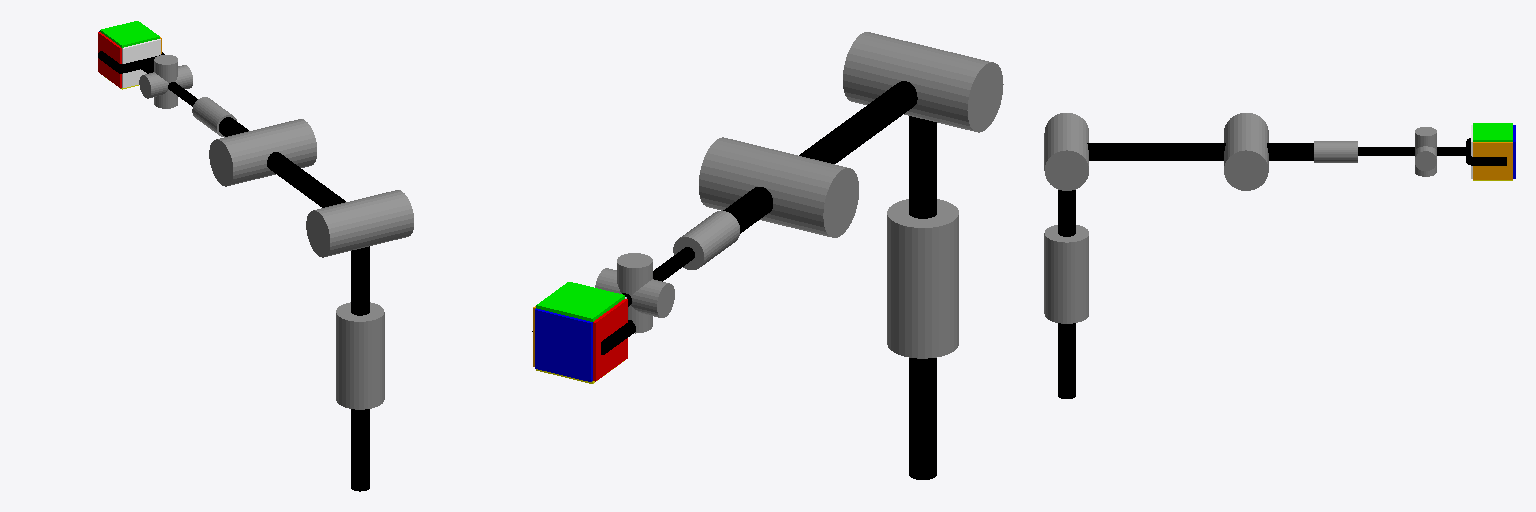
The robot description file, URDF, robot "SixRevolute":
<?xml version="1.0"?>

<robot name="SixRevolute">
  
  <!-- *************************************************** -->
  <!-- ******************** Kinematics ******************* -->
  <!-- *************************************************** -->

  <link name="world"/>

  <joint name="theta1" type="continuous">
    <parent link="world"/>
    <child  link="link1"/>
    <origin xyz="0 0 0.6" rpy="0 0 0"/>
    <axis   xyz="0 0 1"/>
    <dynamics damping="0.5"/>
  </joint>

  <link name="link1"/>

  <joint name="theta2" type="continuous">
    <parent link="link1"/>
    <child  link="link2"/>
    <origin xyz="0 0 0" rpy="0 0 0"/>
    <axis   xyz="1 0 0"/>
    <dynamics damping="0.5"/>
  </joint>

  <link name="link2"/>

  <joint name="theta3" type="continuous">
    <parent link="link2"/>
    <child  link="link3"/>
    <origin xyz="0 0.4 0" rpy="0 0 0"/>
    <axis   xyz="1 0 0 "/>
    <dynamics damping="0.1"/>
  </joint>

  <link name="link3"/>

  <joint name="theta4" type="continuous">
    <parent link="link3"/>
    <child  link="link4"/>
    <origin xyz="0 0.4 0" rpy="0 0 0"/>
    <axis   xyz="0 1 0"/>
    <dynamics damping="0.02"/>
  </joint>

  <link name="link4"/>

  <joint name="theta5" type="continuous">
    <parent link="link4"/>
    <child  link="link5"/>
    <origin xyz="0 0 0" rpy="0 0 0"/>
    <axis   xyz="0 0 1"/>
    <dynamics damping="0.02"/>
  </joint>

  <link name="link5"/>

  <joint name="theta6" type="continuous">
    <parent link="link5"/>
    <child  link="link6"/>
    <origin xyz="0 0 0" rpy="0 0 0"/>
    <axis   xyz="1 0 0"/>
    <dynamics damping="0.02"/>
  </joint>

  <link name="link6"/>

  <joint name="final" type="fixed">
    <parent link="link6"/>
    <child  link="tip"/>
    <origin xyz="0 0.15 0" rpy="1.5708 0 3.1416"/>
  </joint>

  <link name="tip"/>


  <!-- *************************************************** -->
  <!-- ******************* RVIZ Colors ******************* -->
  <!-- *************************************************** -->

  <material name="white">    <color rgba="1.00 1.00 1.00 1"/>  </material>
  <material name="gray">     <color rgba="0.60 0.60 0.60 1"/>  </material>
  <material name="table">    <color rgba="0.85 0.77 0.77 1"/>  </material>
  <material name="black">    <color rgba="0.00 0.00 0.00 1"/>  </material>

  <material name="red">      <color rgba="1.00 0.00 0.00 1"/>  </material>
  <material name="green">    <color rgba="0.00 1.00 0.00 1"/>  </material>
  <material name="blue">     <color rgba="0.00 0.00 1.00 1"/>  </material>

  <material name="cyan">     <color rgba="0.00 1.00 1.00 1"/>  </material>
  <material name="magenta">  <color rgba="1.00 0.00 1.00 1"/>  </material>
  <material name="yellow">   <color rgba="1.00 1.00 0.00 1"/>  </material>

  <material name="orange">   <color rgba="1.00 0.65 0.00 1"/>  </material>


  <!-- *************************************************** -->
  <!-- ****** Building Blocks (Visual AND Inertial) ****** -->
  <!-- *************************************************** -->

  <!-- *** World-Fixed: Mount 1, Motor 1 *** -->

  <joint name="attach-mount1" type="fixed">
    <parent link="world"/>
    <child  link="mount1"/>
  </joint>
  <link name="mount1">
    <visual>
      <origin xyz="0 0 0.1" rpy="0 0 0"/>
      <geometry>
	<cylinder length="0.2" radius="0.02"/>
      </geometry>
      <material name="black"/>
    </visual>
    <inertial>
      <origin xyz="0 0 0.1" rpy="0 0 0"/>
      <mass value="0.2"/>
      <inertia
        ixx="0.000687" ixy="0.0" ixz="0.0"
        iyy="0.000687" iyz="0.0"
        izz="0.000040"/>
    </inertial>
  </link>

  <joint name="attach-motor1" type="fixed">
    <parent link="world"/>
    <child  link="motor1"/>
  </joint>
  <link name="motor1">
    <visual>
      <origin xyz="0 0 0.3" rpy="0 0 0"/>
      <geometry>
	<cylinder length="0.2" radius="0.05"/>
      </geometry>
      <material name="gray"/>
    </visual>
    <inertial>
      <origin xyz="0 0 0.3" rpy="0 0 0"/>
      <mass value="2.0"/>
      <inertia
        ixx="0.007917" ixy="0.0" ixz="0.0"
        iyy="0.007917" iyz="0.0"
        izz="0.002500"/>
    </inertial>
  </link>

  <!-- *** Motor 1 Output: Mount 2, Motor 2 *** -->

  <joint name="attach-mount2" type="fixed">
    <parent link="link1"/>
    <child  link="mount2"/>
  </joint>
  <link name="mount2">
    <visual>
      <origin xyz="0 0 -0.1" rpy="0 0 0"/>
      <geometry>
	<cylinder length="0.2" radius="0.02"/>
      </geometry>
      <material name="black"/>
    </visual>
    <inertial>
      <origin xyz="0 0 -0.1" rpy="0 0 0"/>
      <mass value="0.2"/>
      <inertia
        ixx="0.000687" ixy="0.0" ixz="0.0"
        iyy="0.000687" iyz="0.0"
        izz="0.000040"/>
    </inertial>
  </link>

  <joint name="attach-motor2" type="fixed">
    <parent link="link1"/>
    <child  link="motor2"/>
  </joint>
  <link name="motor2">
    <visual>
      <origin xyz="0 0 0" rpy="0 1.5708 0"/>
      <geometry>
	<cylinder length="0.2" radius="0.05"/>
      </geometry>
      <material name="gray"/>
    </visual>
    <inertial>
      <origin xyz="0 0 0" rpy="0 1.5708 0"/>
      <mass value="2.0"/>
      <inertia
        ixx="0.007917" ixy="0.0" ixz="0.0"
        iyy="0.007917" iyz="0.0"
        izz="0.002500"/>
    </inertial>
  </link>

  <!-- *** Motor 2 Output: Mount 3, Motor 3 *** -->

  <joint name="attach-mount3" type="fixed">
    <parent link="link2"/>
    <child  link="mount3"/>
  </joint>
  <link name="mount3">
    <visual>
      <origin xyz="0 0.2 0" rpy="1.5708 0 0"/>
      <geometry>
	<cylinder length="0.4" radius="0.02"/>
      </geometry>
      <material name="black"/>
    </visual>
    <inertial>
      <origin xyz="0 0.2 0" rpy="1.5708 0 0"/>
      <mass value="0.4"/>
      <inertia
        ixx="0.005373" ixy="0.0" ixz="0.0"
        iyy="0.005373" iyz="0.0"
        izz="0.000080"/>
    </inertial>
  </link>

  <joint name="attach-motor3" type="fixed">
    <parent link="link2"/>
    <child  link="motor3"/>
  </joint>
  <link name="motor3">
    <visual>
      <origin xyz="0 0.4 0" rpy="0 1.5708 0"/>
      <geometry>
	<cylinder length="0.2" radius="0.05"/>
      </geometry>
      <material name="gray"/>
    </visual>
    <inertial>
      <origin xyz="0 0.4 0" rpy="0 1.5708 0"/>
      <mass value="2.0"/>
      <inertia
        ixx="0.007917" ixy="0.0" ixz="0.0"
        iyy="0.007917" iyz="0.0"
        izz="0.002500"/>
    </inertial>
  </link>

  <!-- *** Motor 3 Output: Mount 4, Motor 4 *** -->

  <joint name="attach-mount4" type="fixed">
    <parent link="link3"/>
    <child  link="mount4"/>
  </joint>
  <link name="mount4">
    <visual>
      <origin xyz="0 0.1 0" rpy="1.5708 0 0"/>
      <geometry>
	<cylinder length="0.2" radius="0.02"/>
      </geometry>
      <material name="black"/>
    </visual>
    <inertial>
      <origin xyz="0 0.1 0" rpy="1.5708 0 0"/>
      <mass value="0.2"/>
      <inertia
        ixx="0.000687" ixy="0.0" ixz="0.0"
        iyy="0.000687" iyz="0.0"
        izz="0.000040"/>
    </inertial>
  </link>

  <joint name="attach-motor4" type="fixed">
    <parent link="link3"/>
    <child  link="motor4"/>
  </joint>
  <link name="motor4">
    <visual>
      <origin xyz="0 0.2 0" rpy="1.5708 0 0"/>
      <geometry>
	<cylinder length="0.1" radius="0.025"/>
      </geometry>
      <material name="gray"/>
    </visual>
    <inertial>
      <origin xyz="0 0.2 0" rpy="1.5708 0 0"/>
      <mass value="1.0"/>
      <inertia
        ixx="0.000990" ixy="0.0" ixz="0.0"
        iyy="0.000990" iyz="0.0"
        izz="0.000313"/>
    </inertial>
  </link>

  <!-- *** Motor 4 Output: Mount 5, Motor 5 *** -->

  <joint name="attach-mount5" type="fixed">
    <parent link="link4"/>
    <child  link="mount5"/>
  </joint>
  <link name="mount5">
    <visual>
      <origin xyz="0 -0.1 0" rpy="1.5708 0 0"/>
      <geometry>
	<cylinder length="0.2" radius="0.01"/>
      </geometry>
      <material name="black"/>
    </visual>
    <inertial>
      <origin xyz="0 -0.1 0" rpy="1.5708 0 0"/>
      <mass value="0.1"/>
      <inertia
        ixx="0.000336" ixy="0.0" ixz="0.0"
        iyy="0.000336" iyz="0.0"
        izz="0.000005"/>
    </inertial>
  </link>

  <joint name="attach-motor5" type="fixed">
    <parent link="link4"/>
    <child  link="motor5"/>
  </joint>
  <link name="motor5">
    <visual>
      <origin xyz="0 0 0" rpy="0 0 0"/>
      <geometry>
	<cylinder length="0.1" radius="0.025"/>
      </geometry>
      <material name="gray"/>
    </visual>
    <inertial>
      <origin xyz="0 0 0" rpy="0 0 0"/>
      <mass value="1.0"/>
      <inertia
        ixx="0.000990" ixy="0.0" ixz="0.0"
        iyy="0.000990" iyz="0.0"
        izz="0.000313"/>
    </inertial>
  </link>

  <!-- *** Motor 5 Output: Motor 6 *** -->

  <joint name="attach-motor6" type="fixed">
    <parent link="link5"/>
    <child  link="motor6"/>
  </joint>
  <link name="motor6">
    <visual>
      <origin xyz="0 0 0" rpy="0 1.5708 0"/>
      <geometry>
	<cylinder length="0.1" radius="0.025"/>
      </geometry>
      <material name="gray"/>
    </visual>
    <inertial>
      <origin xyz="0 0 0" rpy="0 1.5708 0"/>
      <mass value="1.0"/>
      <inertia
        ixx="0.000990" ixy="0.0" ixz="0.0"
        iyy="0.000990" iyz="0.0"
        izz="0.000313"/>
    </inertial>
  </link>

  <!-- *** Motor 6 Output: Base, Palm, Fingers *** -->

  <joint name="attach-handbase" type="fixed">
    <parent link="link6"/>
    <child  link="handbase"/>
  </joint>
  <link name="handbase">
    <visual>
      <origin xyz="0 0.05 0" rpy="1.5708 0 0"/>
      <geometry>
	<cylinder length="0.1" radius="0.01"/>
      </geometry>
      <material name="black"/>
    </visual>
    <inertial>
      <origin xyz="0 0.05 0" rpy="1.5708 0 0"/>
      <mass value="0.05"/>
      <inertia
        ixx="0.000043" ixy="0.0" ixz="0.0"
        iyy="0.000043" iyz="0.0"
        izz="0.000003"/>
    </inertial>
  </link>

  <joint name="attach-palm" type="fixed">
    <parent link="link6"/>
    <child  link="palm"/>
  </joint>
  <link name="palm">
    <visual>
      <origin xyz="0 0.1 0" rpy="0 1.5708 0"/>
      <geometry>
	<cylinder length="0.1" radius="0.01"/>
      </geometry>
      <material name="black"/>
    </visual>
    <inertial>
      <origin xyz="0 0.1 0" rpy="0 1.5708 0"/>
      <mass value="0.05"/>
      <inertia
        ixx="0.000043" ixy="0.0" ixz="0.0"
        iyy="0.000043" iyz="0.0"
        izz="0.000003"/>
    </inertial>
  </link>

  <joint name="attach-leftfinger" type="fixed">
    <parent link="link6"/>
    <child  link="leftfinger"/>
  </joint>
  <link name="leftfinger">
    <visual>
      <origin xyz="-0.05 0.14 0" rpy="1.5708 0 0"/>
      <geometry>
	<cylinder length="0.08" radius="0.01"/>
      </geometry>
      <material name="black"/>
    </visual>
    <inertial>
      <origin xyz="-0.05 0.14 0" rpy="1.5708 0 0"/>
      <mass value="0.05"/>
      <inertia
        ixx="0.000022" ixy="0.0" ixz="0.0"
        iyy="0.000022" iyz="0.0"
        izz="0.000002"/>
    </inertial>
  </link>

  <joint name="attach-rightfinger" type="fixed">
    <parent link="link6"/>
    <child  link="rightfinger"/>
  </joint>
  <link name="rightfinger">
    <visual>
      <origin xyz="0.05 0.14 0" rpy="1.5708 0 0"/>
      <geometry>
	<cylinder length="0.08" radius="0.01"/>
      </geometry>
      <material name="black"/>
    </visual>
    <inertial>
      <origin xyz="0.05 0.14 0" rpy="1.5708 0 0"/>
      <mass value="0.05"/>
      <inertia
        ixx="0.000022" ixy="0.0" ixz="0.0"
        iyy="0.000022" iyz="0.0"
        izz="0.000002"/>
    </inertial>
  </link>

  <!-- *** Object: Six sides *** -->

  <joint name="attach-cube-up" type="fixed">
    <parent link="tip"/>
    <child  link="cube-up"/>
  </joint>
  <link name="cube-up">
    <visual>
      <origin xyz="0 0.04 0" rpy="0 0 0"/>
      <geometry>
	<box size="0.09 0.0202 0.09"/>
      </geometry>
      <material name="green"/>
    </visual>
    <inertial>
      <origin xyz="0 0 0" rpy="0 0 0"/>
      <mass value="0.16"/>
      <inertia
        ixx="0.000020" ixy="0.0" ixz="0.0"
        iyy="0.000020" iyz="0.0"
        izz="0.000020"/>
    </inertial>
  </link>

  <joint name="attach-cube-down" type="fixed">
    <parent link="tip"/>
    <child  link="cube-down"/>
  </joint>
  <link name="cube-down">
    <visual>
      <origin xyz="0 -0.04 0" rpy="0 0 0"/>
      <geometry>
	<box size="0.09 0.0202 0.09"/>
      </geometry>
      <material name="yellow"/>
    </visual>
    <inertial>
      <origin xyz="0 0 0" rpy="0 0 0"/>
      <mass value="0.16"/>
      <inertia
        ixx="0.000020" ixy="0.0" ixz="0.0"
        iyy="0.000020" iyz="0.0"
        izz="0.000020"/>
    </inertial>
  </link>

  <joint name="attach-cube-left" type="fixed">
    <parent link="tip"/>
    <child  link="cube-left"/>
  </joint>
  <link name="cube-left">
    <visual>
      <origin xyz="0.04 0 0" rpy="0 0 0"/>
      <geometry>
	<box size="0.0202 0.09 0.09"/>
      </geometry>
      <material name="red"/>
    </visual>
    <inertial>
      <origin xyz="0 0 0" rpy="0 0 0"/>
      <mass value="0.16"/>
      <inertia
        ixx="0.000020" ixy="0.0" ixz="0.0"
        iyy="0.000020" iyz="0.0"
        izz="0.000020"/>
    </inertial>
  </link>

  <joint name="attach-cube-right" type="fixed">
    <parent link="tip"/>
    <child  link="cube-right"/>
  </joint>
  <link name="cube-right">
    <visual>
      <origin xyz="-0.04 0 0" rpy="0 0 0"/>
      <geometry>
	<box size="0.0202 0.09 0.09"/>
      </geometry>
      <material name="orange"/>
    </visual>
    <inertial>
      <origin xyz="0 0 0" rpy="0 0 0"/>
      <mass value="0.16"/>
      <inertia
        ixx="0.000020" ixy="0.0" ixz="0.0"
        iyy="0.000020" iyz="0.0"
        izz="0.000020"/>
    </inertial>
  </link>

  <joint name="attach-cube-front" type="fixed">
    <parent link="tip"/>
    <child  link="cube-front"/>
  </joint>
  <link name="cube-front">
    <visual>
      <origin xyz="0 0 0.04" rpy="0 0 0"/>
      <geometry>
	<box size="0.09 0.09 0.0202"/>
      </geometry>
      <material name="blue"/>
    </visual>
    <inertial>
      <origin xyz="0 0 0" rpy="0 0 0"/>
      <mass value="0.16"/>
      <inertia
        ixx="0.000020" ixy="0.0" ixz="0.0"
        iyy="0.000020" iyz="0.0"
        izz="0.000020"/>
    </inertial>
  </link>

  <joint name="attach-cube-back" type="fixed">
    <parent link="tip"/>
    <child  link="cube-back"/>
  </joint>
  <link name="cube-back">
    <visual>
      <origin xyz="0 0 -0.04" rpy="0 0 0"/>
      <geometry>
	<box size="0.09 0.09 0.0202"/>
      </geometry>
      <material name="white"/>
    </visual>
    <inertial>
      <origin xyz="0 0 0" rpy="0 0 0"/>
      <mass value="0.16"/>
      <inertia
        ixx="0.000020" ixy="0.0" ixz="0.0"
        iyy="0.000020" iyz="0.0"
        izz="0.000020"/>
    </inertial>
  </link>

  <!-- *************************************************** -->
  <!-- ******************* Gazebo Colors ***************** -->
  <!-- *************************************************** -->

  <gazebo reference="motor1"> <material>Gazebo/Gray</material>  </gazebo>
  <gazebo reference="motor2"> <material>Gazebo/Gray</material>  </gazebo>
  <gazebo reference="motor3"> <material>Gazebo/Gray</material>  </gazebo>
  <gazebo reference="motor4"> <material>Gazebo/Gray</material>  </gazebo>
  <gazebo reference="motor5"> <material>Gazebo/Gray</material>  </gazebo>
  <gazebo reference="motor6"> <material>Gazebo/Gray</material>  </gazebo>

  <gazebo reference="mount1">   <material>Gazebo/Black</material> </gazebo>
  <gazebo reference="mount2">   <material>Gazebo/Black</material> </gazebo>
  <gazebo reference="mount3">   <material>Gazebo/Black</material> </gazebo>
  <gazebo reference="mount4">   <material>Gazebo/Black</material> </gazebo>
  <gazebo reference="mount5">   <material>Gazebo/Black</material> </gazebo>

  <gazebo reference="handbase">    <material>Gazebo/Black</material> </gazebo>
  <gazebo reference="palm">        <material>Gazebo/Black</material> </gazebo>
  <gazebo reference="leftfinger">  <material>Gazebo/Black</material> </gazebo>
  <gazebo reference="rightfinger"> <material>Gazebo/Black</material> </gazebo>

  <gazebo reference="cube-up">    <material>Gazebo/Green</material>  </gazebo>
  <gazebo reference="cube-down">  <material>Gazebo/Yellow</material> </gazebo>
  <gazebo reference="cube-left">  <material>Gazebo/Red</material>    </gazebo>
  <gazebo reference="cube-right"> <material>Gazebo/Orange</material> </gazebo>
  <gazebo reference="cube-front"> <material>Gazebo/Blue</material>   </gazebo>
  <gazebo reference="cube-back">  <material>Gazebo/White</material>  </gazebo>

</robot>

--- Render facts (derived) ---
The picture shows the robot from 3 angles, left to right: view 1: azimuth 30°, elevation 25°; view 2: azimuth 150°, elevation 25°; view 3: azimuth 270°, elevation 25°; orthographic projection.
Model SixRevolute with 29 links and 28 joints (6 continuous, 22 fixed), rooted at world, posed all joints at 0.
Visible links, largest first — view 1: motor2, motor1, motor3, mount3, mount1, mount2, cube-up, cube-back, motor5, motor6, motor4, cube-left; view 2: motor1, motor2, motor3, cube-front, mount3, mount1, mount2, motor4, cube-up, cube-left, motor6, motor5 (+2 smaller); view 3: motor1, motor2, motor3, mount3, mount1, cube-right, motor4, mount4, mount2, cube-up, motor5.
Boxes of the visible links, <box> form: motor2: <box>306,190,413,257</box>; motor1: <box>336,302,384,409</box>; motor3: <box>209,119,316,186</box>; mount3: <box>267,152,345,207</box>; mount1: <box>351,409,369,491</box>; mount2: <box>351,246,369,315</box>; cube-up: <box>100,21,159,47</box>; cube-back: <box>122,39,160,87</box>; motor5: <box>154,55,177,108</box>; motor6: <box>139,65,192,98</box>; motor4: <box>192,97,236,136</box>; cube-left: <box>98,32,121,87</box>; motor1: <box>887,199,958,358</box>; motor2: <box>843,32,1003,132</box>; motor3: <box>699,137,858,237</box>; cube-front: <box>535,308,592,381</box>; mount3: <box>799,81,917,163</box>; mount1: <box>909,358,936,479</box>; mount2: <box>909,116,936,218</box>; motor4: <box>673,211,739,269</box>; cube-up: <box>536,282,624,321</box>; cube-left: <box>593,299,627,381</box>; motor6: <box>595,268,674,317</box>; motor5: <box>617,253,652,333</box>; motor1: <box>1044,225,1088,323</box>; motor2: <box>1044,113,1088,190</box>; motor3: <box>1224,113,1268,190</box>; mount3: <box>1087,143,1225,160</box>; mount1: <box>1058,323,1075,398</box>; cube-right: <box>1473,142,1512,179</box>; motor4: <box>1314,141,1357,162</box>; mount4: <box>1267,143,1313,160</box>; mount2: <box>1058,190,1075,236</box>; cube-up: <box>1473,123,1512,141</box>; motor5: <box>1415,127,1436,176</box>.
Size in the robot's own frame: 0.2 by 1.05 by 0.6501 metres.
Geometry: primitives only (box / cylinder / sphere), no mesh files.